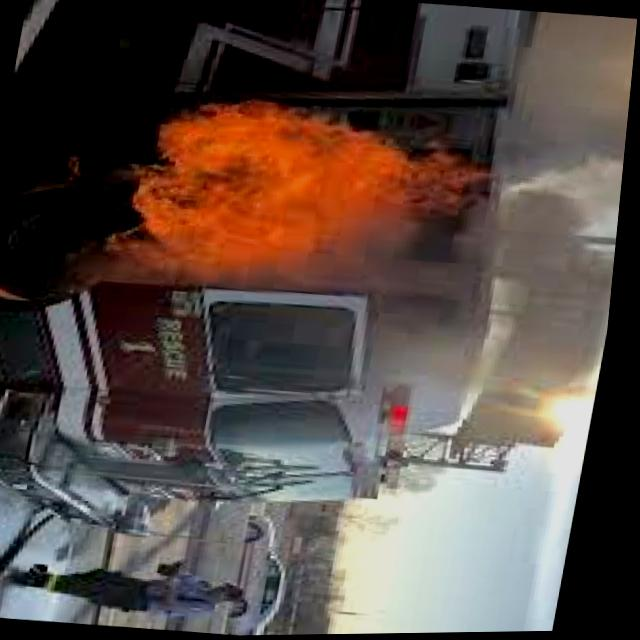Fire: (117, 87, 464, 320)
Smoke: (399, 4, 639, 414)
